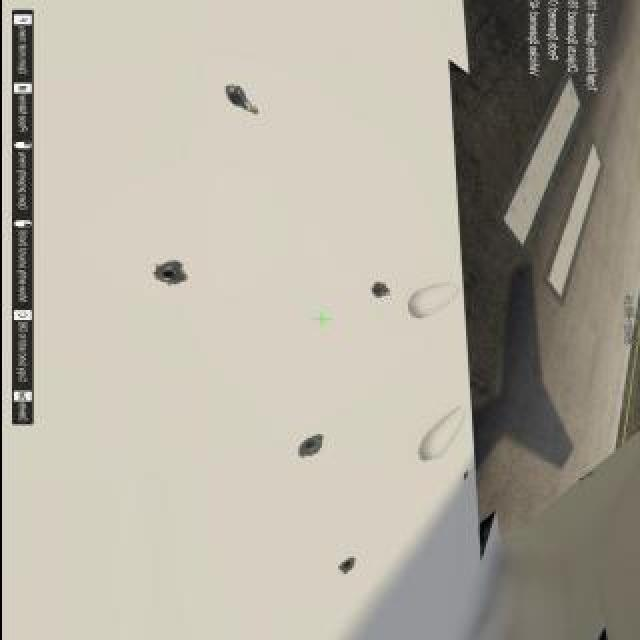crack: (145, 258, 193, 286), (222, 86, 260, 118), (296, 433, 326, 459), (335, 557, 357, 577), (368, 283, 392, 299), (459, 472, 471, 482)
